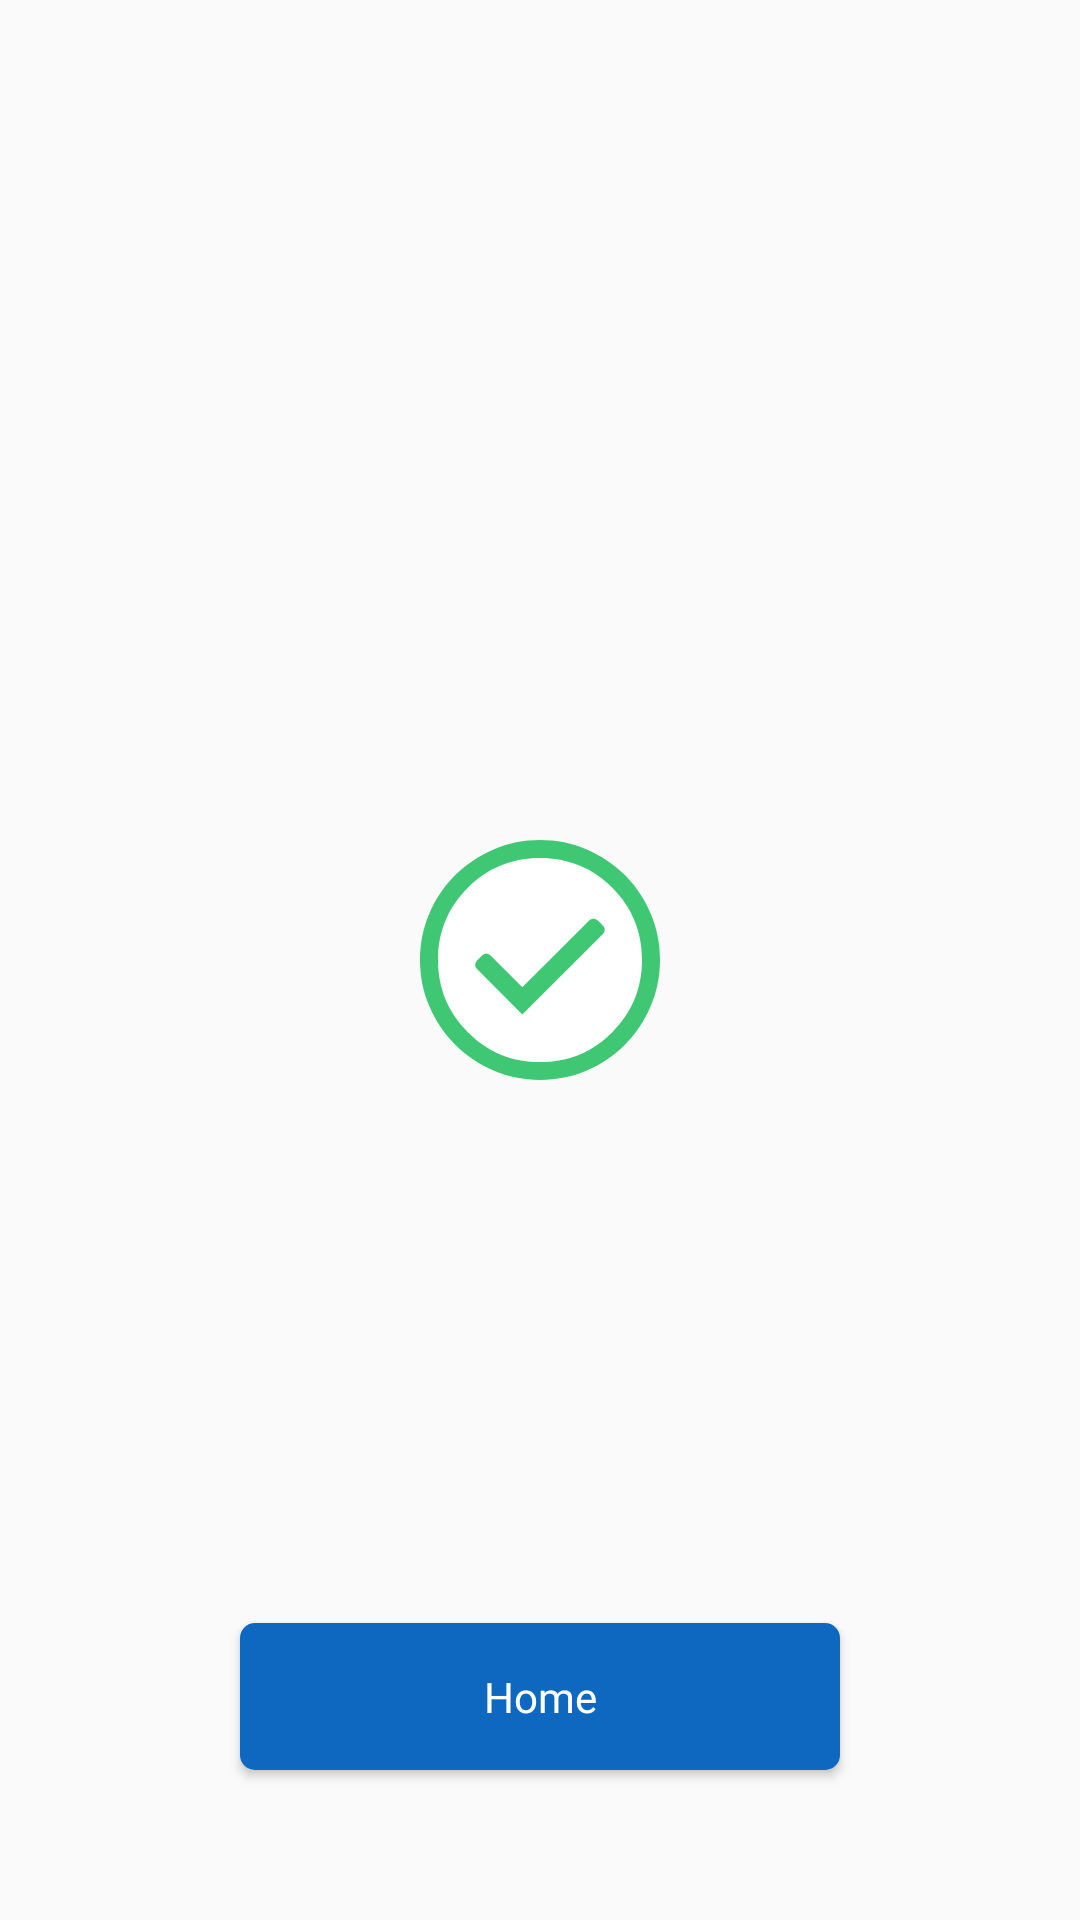

Locate icon controls on the screen. Image size 1080px×1920px, boxes as bbox=[x1, y1, x2, y2].
success: bbox=[420, 840, 660, 1080]
